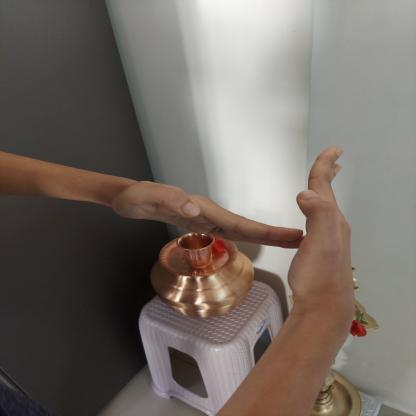Z: (122, 138, 368, 309)
